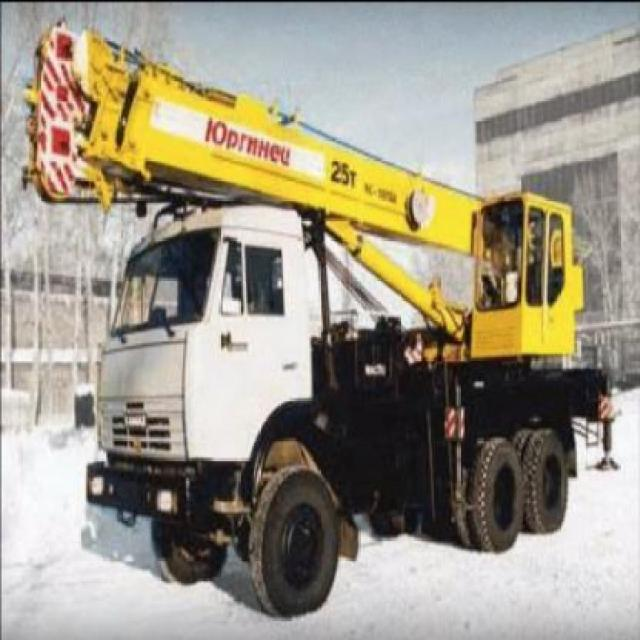Mobile Crane: (29, 21, 622, 616)
